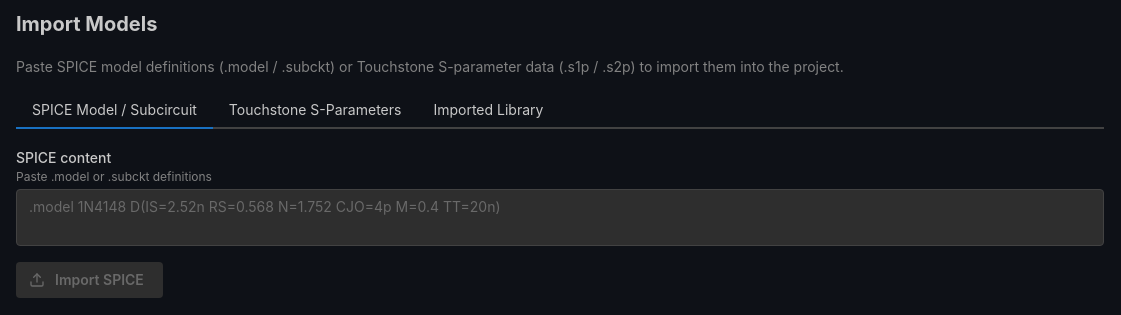
Test: ImportModelsScreen › shows empty library message when no models imported
Step 1. Click the tab "Imported Library" → (488, 111), box [417,93,559,129]
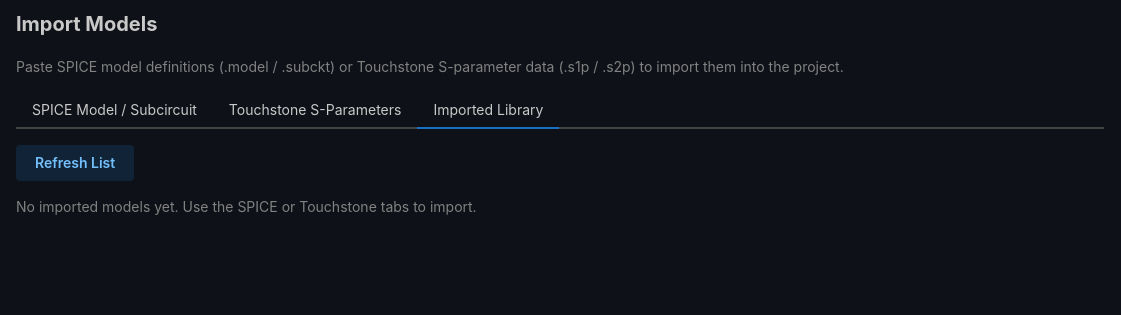
Expected: the text "No imported models yet" is shown, [16,198,477,215]
